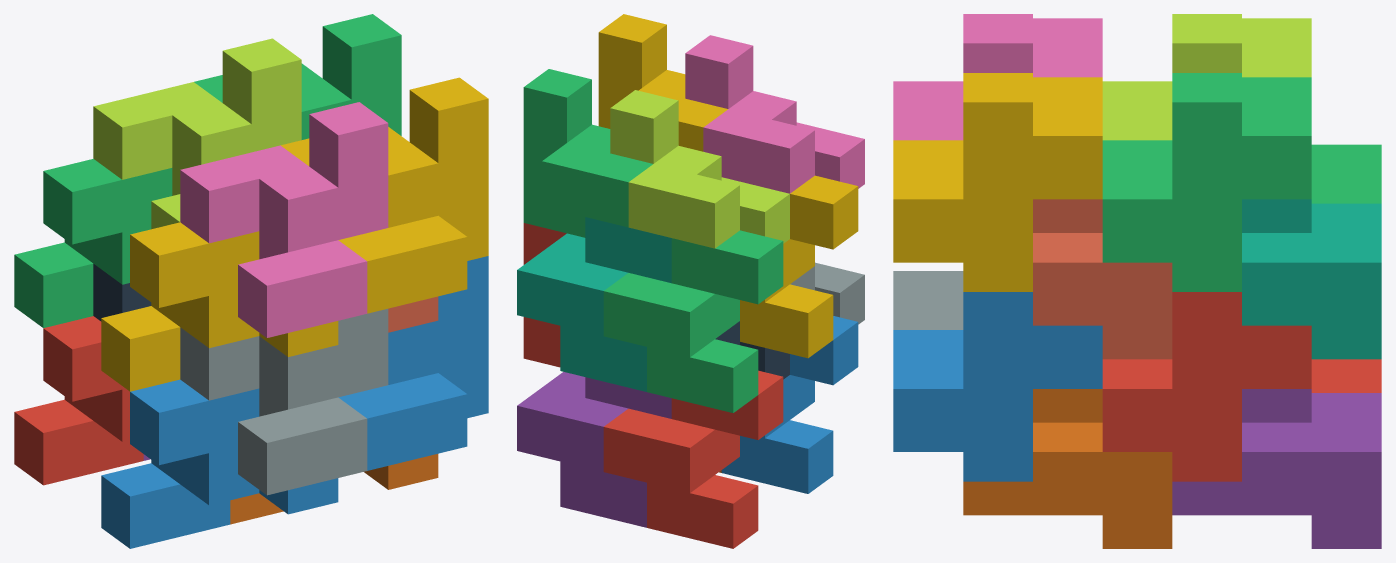
The model's file is tiling.obj.
3 renders of one model, left to right at view 1: azimuth 30°, elevation 25°; view 2: azimuth 150°, elevation 25°; view 3: azimuth 270°, elevation 25°, orthographic. The views are drawn at different scales.
Parts seen in each view (by area): view 1: copy_2_domain_4, copy_2_domain_2, copy_2_domain_8, copy_1_domain_2, copy_2_domain_3, copy_1_domain_4, copy_2_domain_6, copy_1_domain_3, copy_1_domain_1, copy_2_domain_7, copy_1_domain_6, copy_2_domain_1 (+1 smaller); view 2: copy_1_domain_3, copy_1_domain_1, copy_2_domain_3, copy_2_domain_4, copy_1_domain_7, copy_2_domain_7, copy_1_domain_5, copy_1_domain_4, copy_1_domain_2, copy_2_domain_8, copy_2_domain_5, copy_2_domain_2 (+1 smaller); view 3: copy_2_domain_7, copy_2_domain_8, copy_2_domain_6, copy_2_domain_5, copy_1_domain_5, copy_1_domain_7, copy_1_domain_6, copy_1_domain_8, copy_2_domain_4, copy_2_domain_3, copy_1_domain_3, copy_2_domain_2 (+1 smaller).
Boxes of the visible parts, x1,y1,x2,y2 form: copy_2_domain_4: (180, 102, 388, 337); copy_2_domain_2: (180, 308, 388, 495); copy_2_domain_8: (281, 77, 488, 313); copy_1_domain_2: (101, 379, 338, 548); copy_2_domain_3: (93, 38, 301, 229); copy_1_domain_4: (101, 222, 338, 391); copy_2_domain_6: (338, 256, 488, 470); copy_1_domain_3: (14, 159, 172, 327); copy_1_domain_1: (14, 316, 143, 485); copy_2_domain_7: (194, 14, 401, 139); copy_1_domain_6: (230, 454, 438, 524); copy_2_domain_1: (93, 264, 151, 321); copy_1_domain_3: (603, 230, 783, 412); copy_1_domain_1: (603, 370, 783, 548); copy_2_domain_3: (610, 90, 789, 248); copy_2_domain_4: (685, 35, 864, 193); copy_1_domain_7: (517, 217, 671, 391); copy_2_domain_7: (523, 69, 652, 237); copy_1_domain_5: (517, 372, 671, 527); copy_1_domain_4: (740, 175, 858, 358); copy_1_domain_2: (721, 316, 858, 493); copy_2_domain_8: (598, 14, 727, 151); copy_2_domain_5: (523, 223, 566, 367); copy_2_domain_2: (790, 262, 864, 324); copy_2_domain_7: (1102, 73, 1311, 291); copy_2_domain_8: (893, 73, 1102, 291); copy_2_domain_6: (893, 292, 1102, 481); copy_2_domain_5: (1102, 292, 1311, 481); copy_1_domain_5: (1172, 389, 1381, 548); copy_1_domain_7: (1242, 199, 1381, 359); copy_1_domain_6: (963, 389, 1172, 548); copy_1_domain_8: (1033, 199, 1172, 359); copy_2_domain_4: (893, 14, 1102, 140); copy_2_domain_3: (1102, 14, 1311, 140); copy_1_domain_3: (1311, 144, 1381, 203); copy_2_domain_2: (893, 271, 963, 329).
Size of the model in its own units: 6 by 8 by 7.
